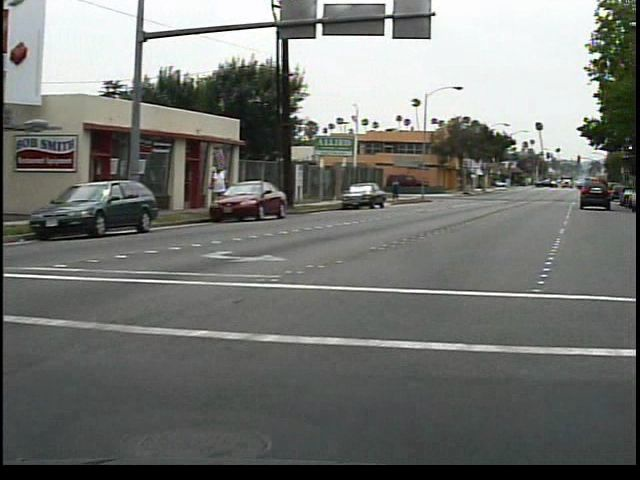person: (210, 159, 236, 217), (395, 175, 409, 202)
